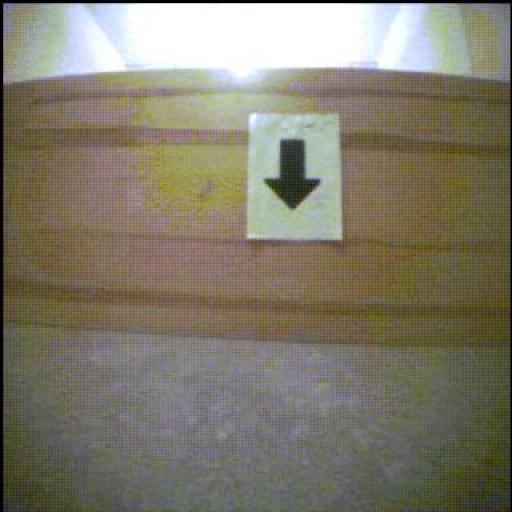arrow: (267, 140, 321, 211)
